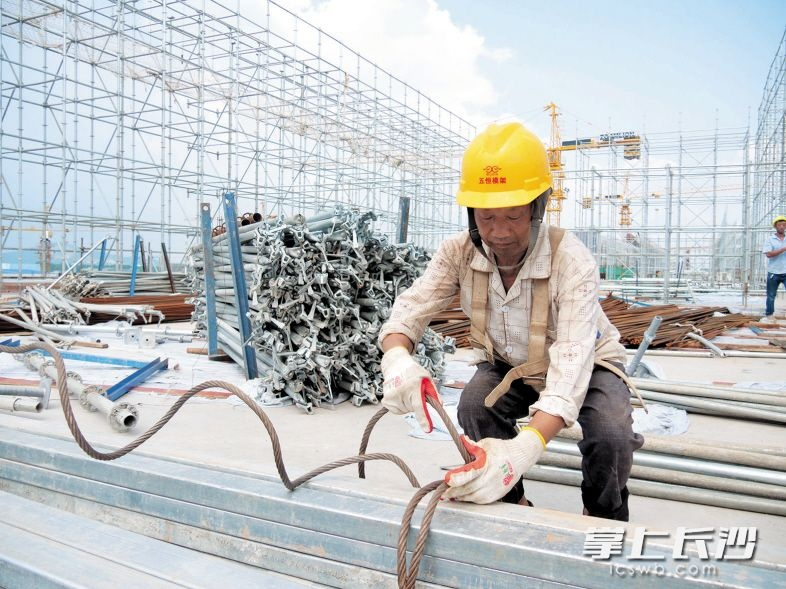yellow: (456, 119, 552, 255), (771, 214, 786, 235)
